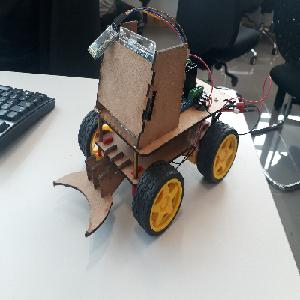Robot: (52, 17, 238, 237)
